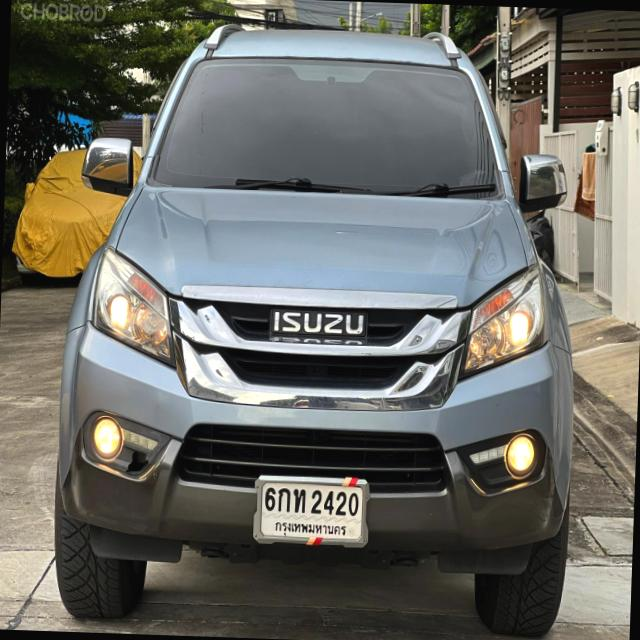license_plate: (250, 470, 372, 551)
